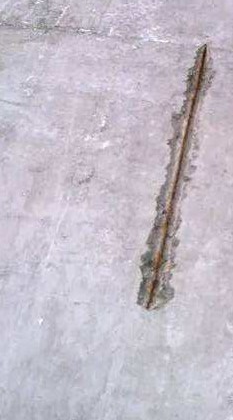Exposed reinforcement: (146, 45, 208, 310)
Spalling: (135, 42, 217, 312)
